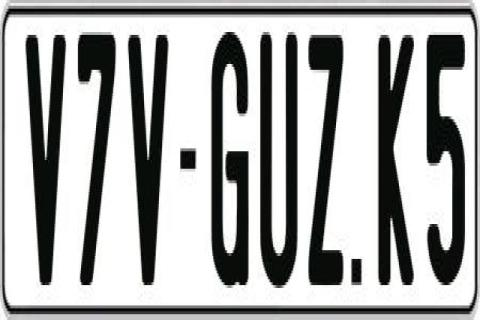0: (75, 29, 114, 291), (424, 35, 464, 285)
G: (208, 27, 252, 286)
K: (378, 29, 417, 294)
U: (257, 32, 301, 288)
V: (25, 29, 71, 288), (126, 32, 170, 282)
Z: (306, 29, 344, 288)
